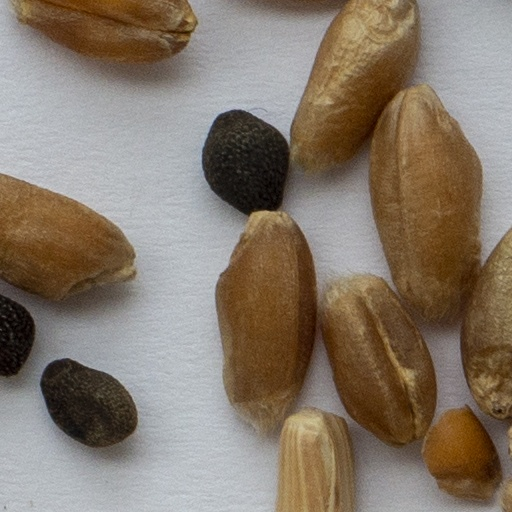Convolvulus-poly: (201, 103, 291, 218), (35, 355, 141, 450), (0, 290, 36, 379)
Peel-poly: (275, 410, 352, 511)
